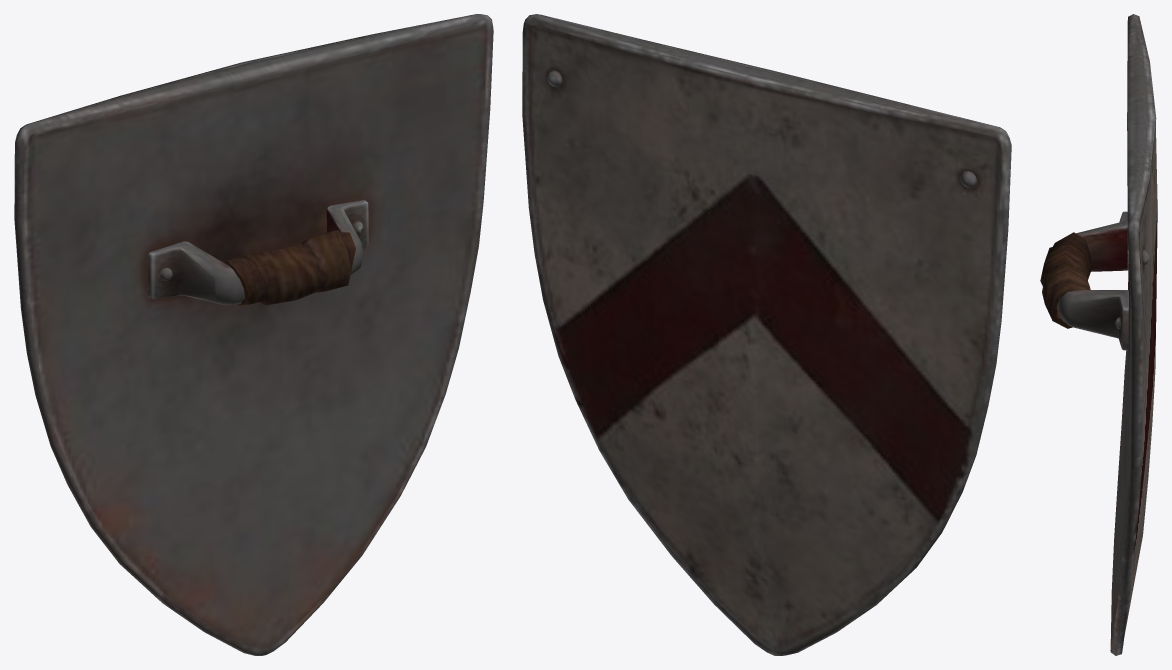
File: weapon-wp_a_2038.glb
The picture shows the model from 3 angles, left to right: view 1: azimuth 30°, elevation 25°; view 2: azimuth 150°, elevation 25°; view 3: azimuth 270°, elevation 25°; orthographic projection. The views are drawn at different scales.
Visible parts, largest first — view 1: wp_a_2038_mesh; view 2: wp_a_2038_mesh; view 3: wp_a_2038_mesh.
Part boxes in pixels (left/top/right/bottom): wp_a_2038_mesh: left=14, top=14, right=493, bottom=655; wp_a_2038_mesh: left=522, top=14, right=1011, bottom=655; wp_a_2038_mesh: left=1040, top=14, right=1157, bottom=655.
Size of the model in its own units: 0.5657 by 0.6562 by 0.1298.
Materials: 1 (1 with a texture image).
